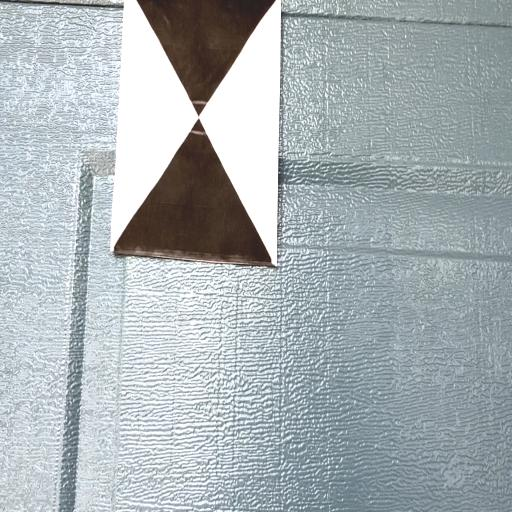target: (112, 0, 281, 265)
